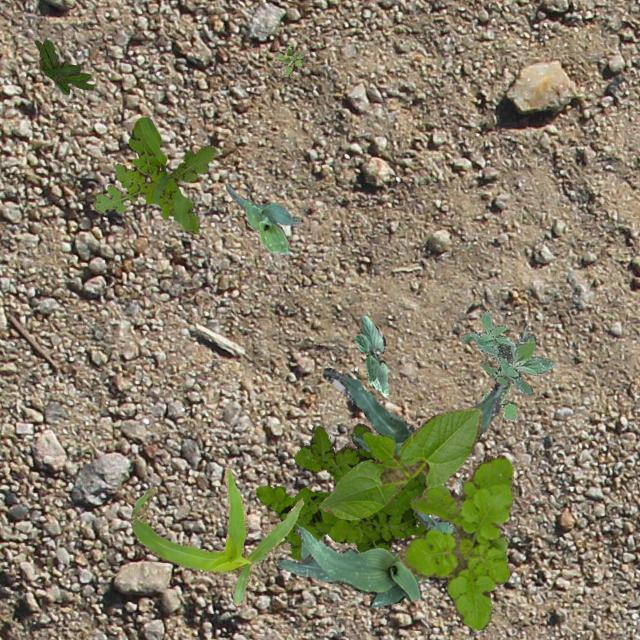crop: (322, 326, 526, 454), (128, 466, 302, 604), (318, 406, 482, 518), (276, 508, 454, 606), (224, 182, 300, 254), (352, 314, 388, 396)
weed: (254, 422, 426, 558), (397, 453, 512, 630), (92, 116, 214, 232), (460, 310, 554, 394), (34, 38, 92, 94), (481, 384, 516, 419), (272, 44, 304, 76)
